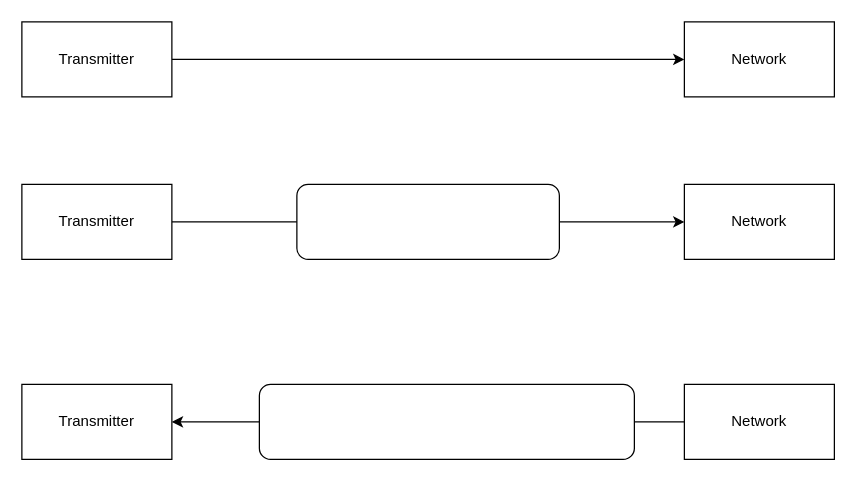
This 856x481 diagram has some shape labels left out. The shapes that lost their labels are listed below. From the top down, each one's centre as x and y in pixels, then its label:
At [427,221]: "SYN: Seq, Ack, WS = T.window".
At [446,421]: "SYNACK: Seq, Ack, WS = getLowest(T.window, R.window)".
